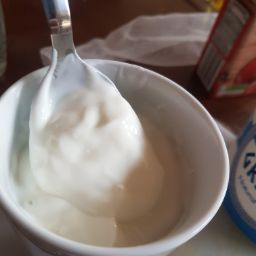Yogurt: (9, 102, 202, 234), (17, 66, 169, 221)
